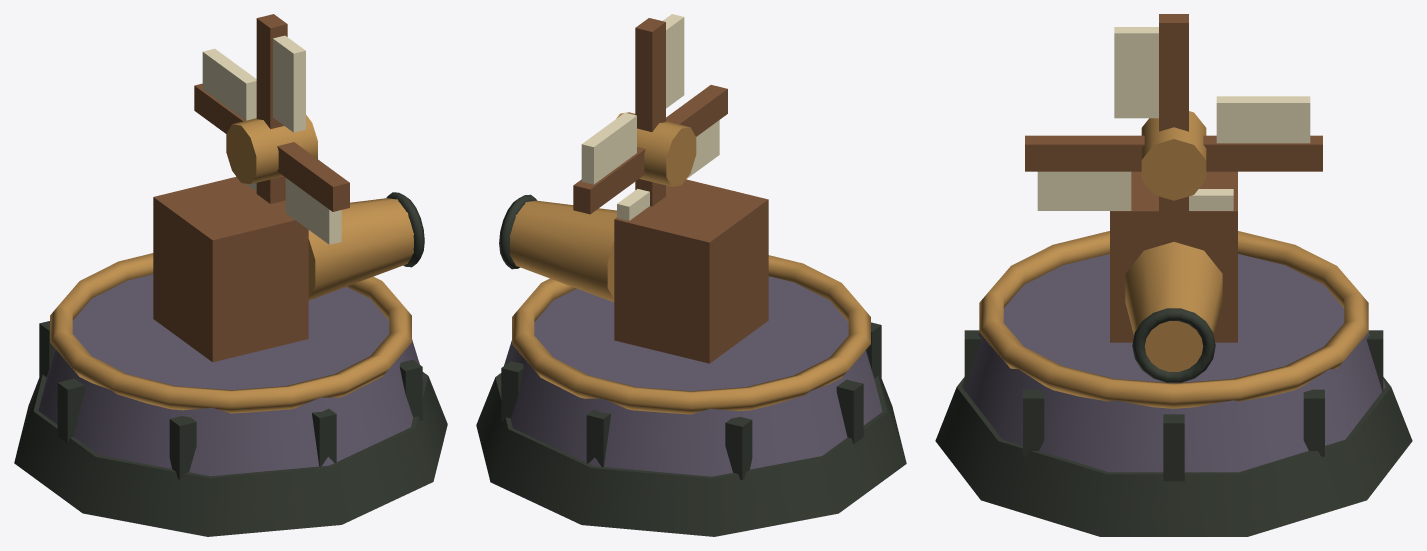
The model's file is tower_wind_windCannon.glb.
3 views of the same model, side by side, from view 1: azimuth 30°, elevation 25°; view 2: azimuth 150°, elevation 25°; view 3: azimuth 270°, elevation 25° (orthographic). The views are drawn at different scales.
Visible parts, largest first — view 1: stone_1, foot_0, mill_11, rim_2, air_nozzle_21, hub_12, sail_16, spar_17, sail_14, spar_15, sail_18, mortar_6 (+7 smaller); view 2: stone_1, foot_0, mill_11, rim_2, air_nozzle_21, spar_15, hub_12, sail_14, spar_13, spar_17, sail_16, mortar_8 (+7 smaller); view 3: stone_1, foot_0, rim_2, mill_11, air_nozzle_21, hub_12, sail_14, spar_17, sail_16, sail_18, spar_13, spar_15 (+8 smaller).
Part boxes in pixels (bbox=[...]): stone_1: bbox=[38, 274, 423, 476]; foot_0: bbox=[14, 372, 447, 536]; mill_11: bbox=[153, 176, 308, 362]; rim_2: bbox=[50, 253, 411, 413]; air_nozzle_21: bbox=[308, 198, 413, 300]; hub_12: bbox=[226, 115, 317, 184]; sail_16: bbox=[273, 35, 305, 132]; spar_17: bbox=[277, 142, 349, 211]; sail_14: bbox=[202, 48, 256, 120]; spar_15: bbox=[256, 14, 287, 129]; sail_18: bbox=[285, 178, 341, 244]; mortar_6: bbox=[169, 416, 196, 479]; stone_1: bbox=[500, 276, 882, 476]; foot_0: bbox=[476, 373, 906, 536]; mill_11: bbox=[614, 179, 768, 363]; rim_2: bbox=[512, 255, 870, 414]; air_nozzle_21: bbox=[509, 200, 616, 302]; spar_15: bbox=[635, 18, 665, 131]; hub_12: bbox=[616, 112, 696, 186]; sail_14: bbox=[581, 112, 636, 184]; spar_13: bbox=[573, 147, 645, 214]; spar_17: bbox=[666, 85, 727, 136]; sail_16: bbox=[663, 14, 684, 108]; mortar_8: bbox=[725, 417, 752, 480]; stone_1: bbox=[962, 254, 1385, 472]; foot_0: bbox=[935, 377, 1412, 536]; rim_2: bbox=[979, 231, 1368, 408]; mill_11: bbox=[1110, 171, 1237, 342]; air_nozzle_21: bbox=[1125, 242, 1222, 371]; hub_12: bbox=[1141, 111, 1206, 200]; sail_14: bbox=[1216, 96, 1310, 143]; spar_17: bbox=[1025, 135, 1144, 171]; sail_16: bbox=[1114, 27, 1158, 118]; sail_18: bbox=[1037, 171, 1131, 210]; spar_13: bbox=[1203, 135, 1322, 171]; spar_15: bbox=[1159, 14, 1188, 131].
Bounding box in the file's own units: 0.5326 × 0.575 × 0.56.
